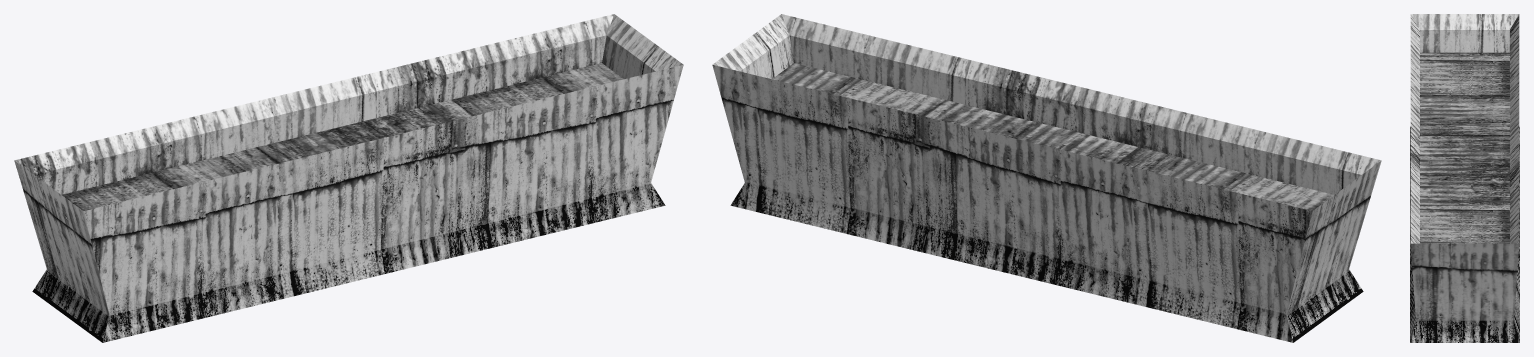
Rendered from slasher_trough_mesh.fbx.
3 renders of one model, left to right at view 1: azimuth 30°, elevation 25°; view 2: azimuth 150°, elevation 25°; view 3: azimuth 270°, elevation 25°, orthographic. The views are drawn at different scales.
Visible parts, largest first — view 1: pCube1; view 2: pCube1; view 3: pCube1.
Boxes of the visible parts, bbox=[...] form: pCube1: bbox=[14, 14, 683, 342]; pCube1: bbox=[712, 14, 1381, 342]; pCube1: bbox=[1410, 14, 1519, 342].
Bounding box in the file's own units: 277 × 60 × 56.11.
Materials: 1 (1 with a texture image).
